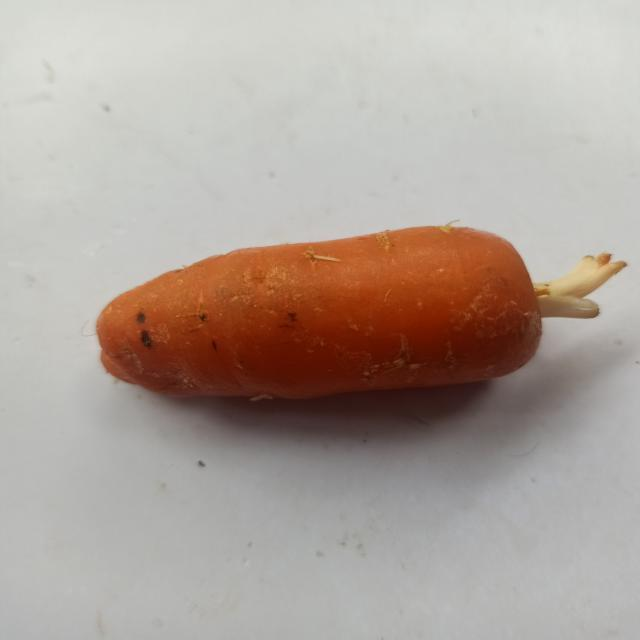Carrot: (75, 199, 640, 445)
